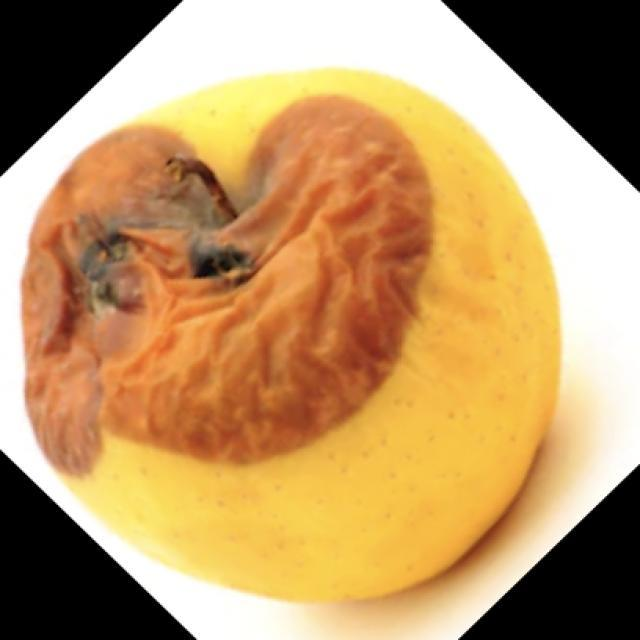Rotten: (33, 65, 582, 590)
